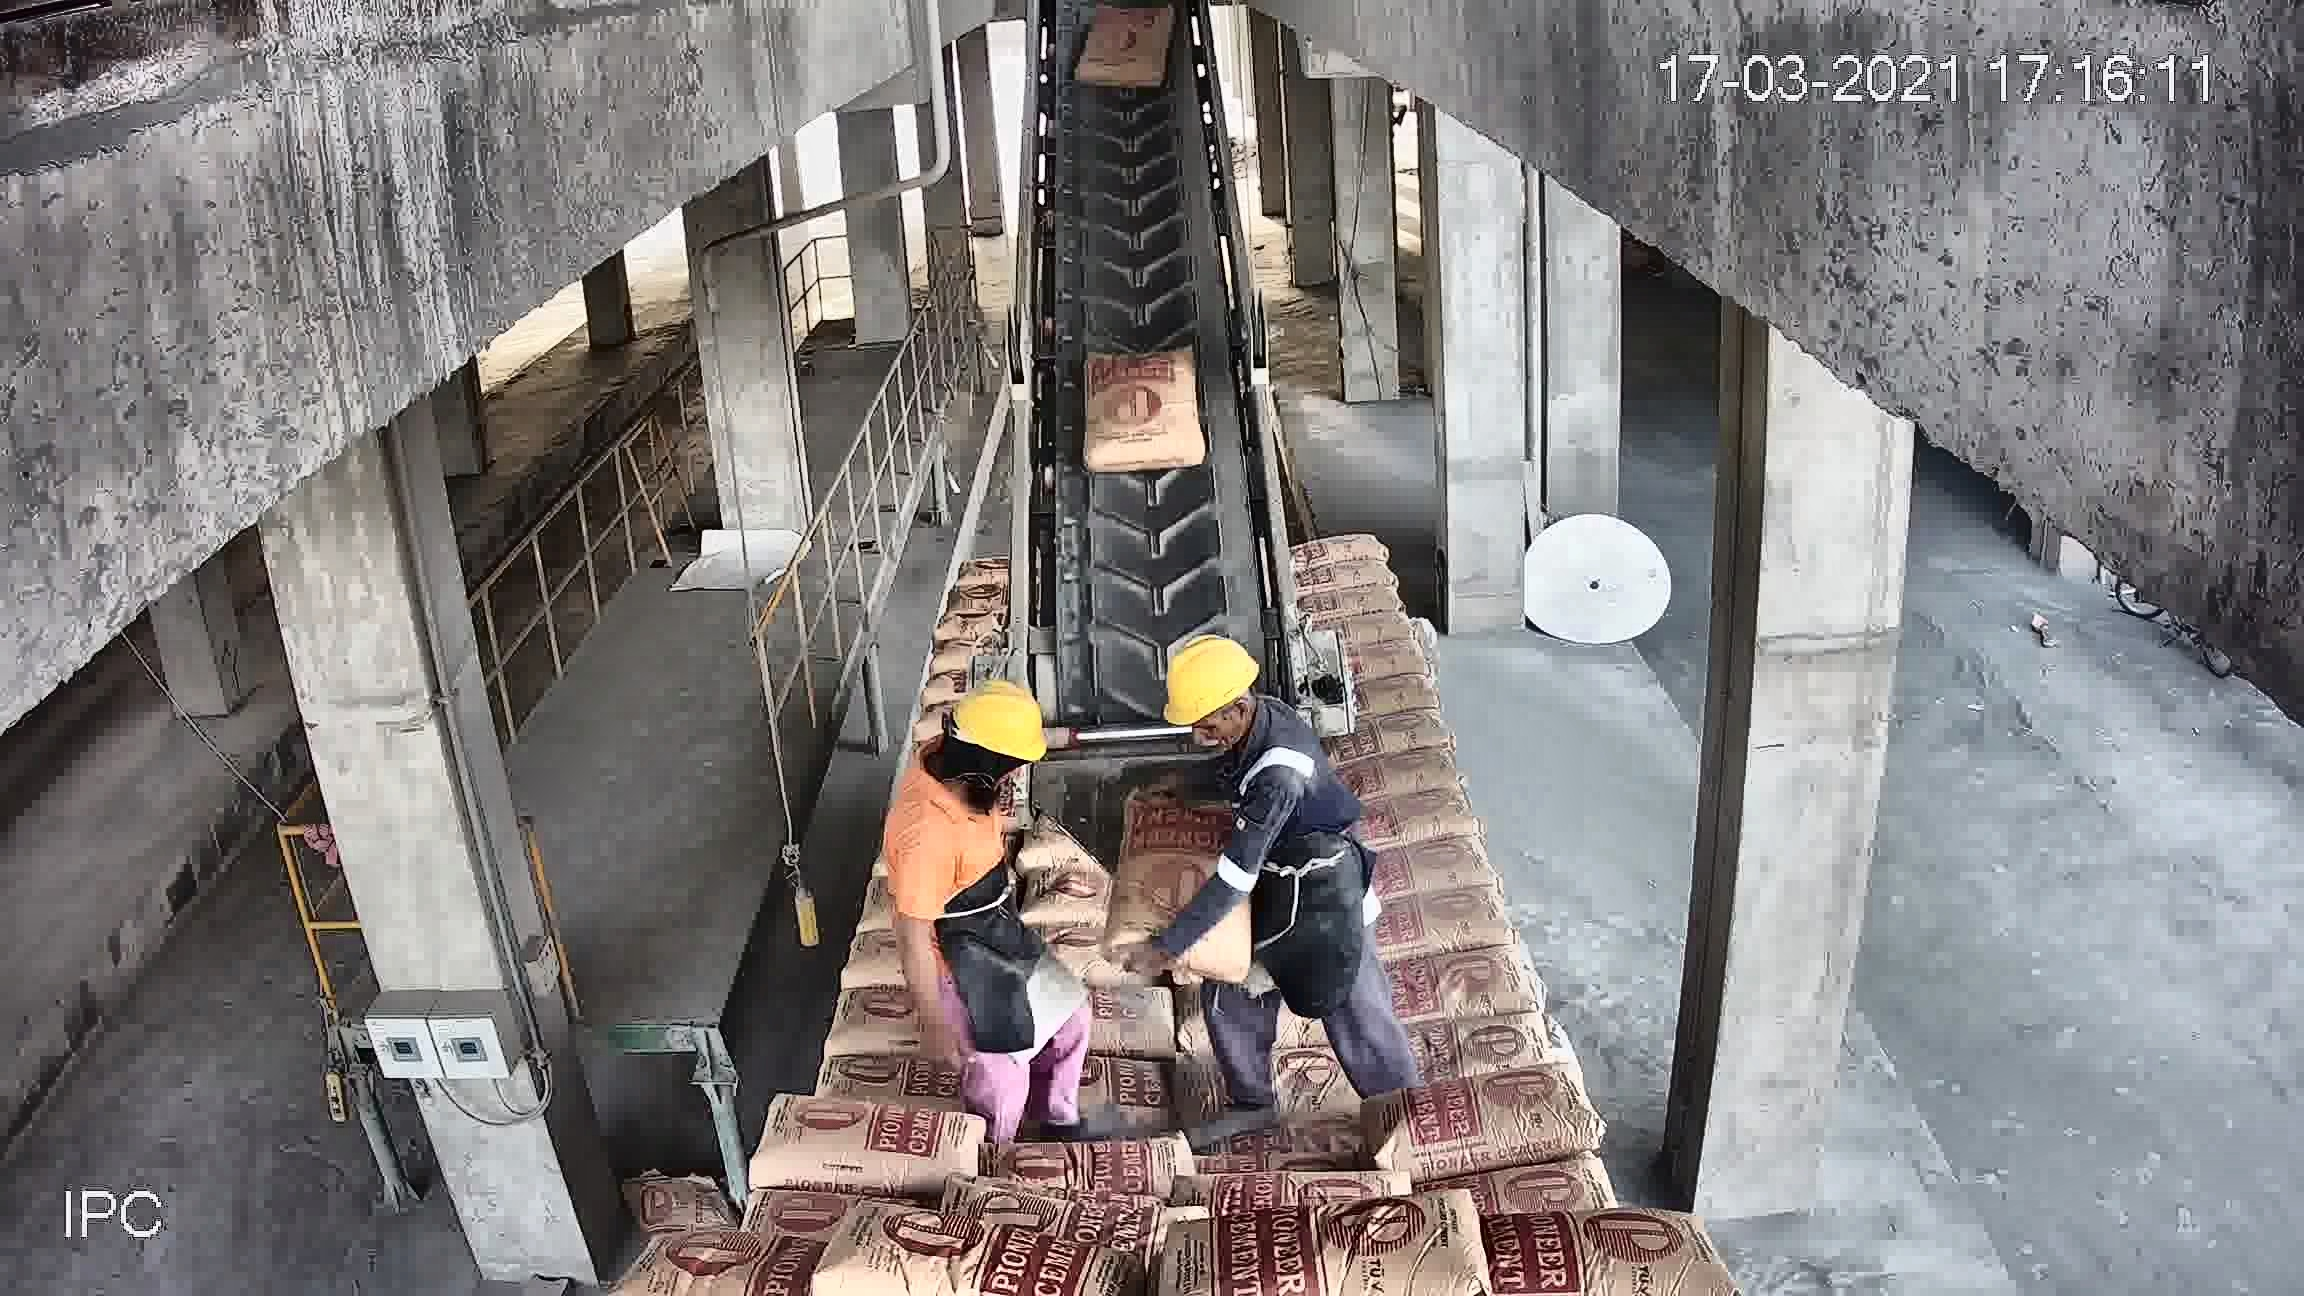bag: (1101, 801, 1252, 968), (1079, 343, 1203, 473), (1082, 17, 1171, 87)
bag_h: (1198, 1182, 1522, 1294), (1358, 1059, 1601, 1180), (798, 1215, 1138, 1296), (1442, 1203, 1709, 1296), (747, 1100, 994, 1196), (638, 1228, 847, 1294), (1366, 953, 1548, 1024), (1407, 1006, 1573, 1081), (802, 1038, 964, 1111), (1356, 824, 1503, 904), (1361, 883, 1510, 956), (1358, 783, 1492, 850), (1334, 695, 1453, 764), (1347, 733, 1472, 798), (821, 983, 924, 1051), (1282, 527, 1399, 570), (1293, 559, 1396, 597)
